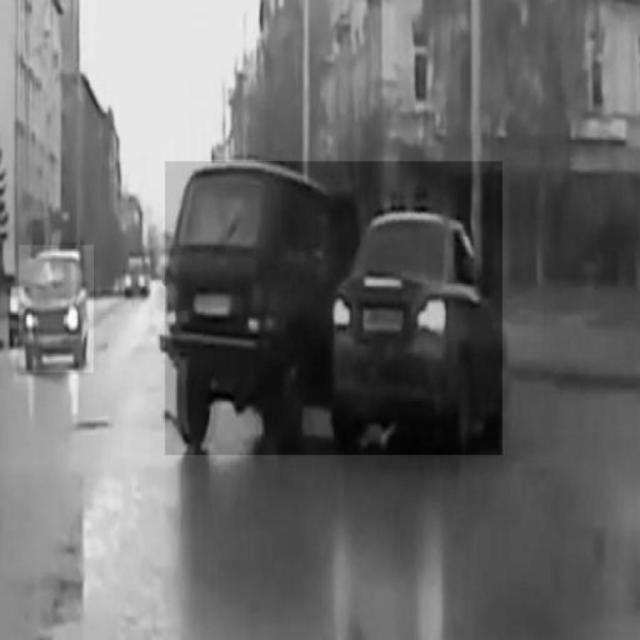accident: (164, 161, 502, 455)
vehicle: (20, 244, 94, 372)
